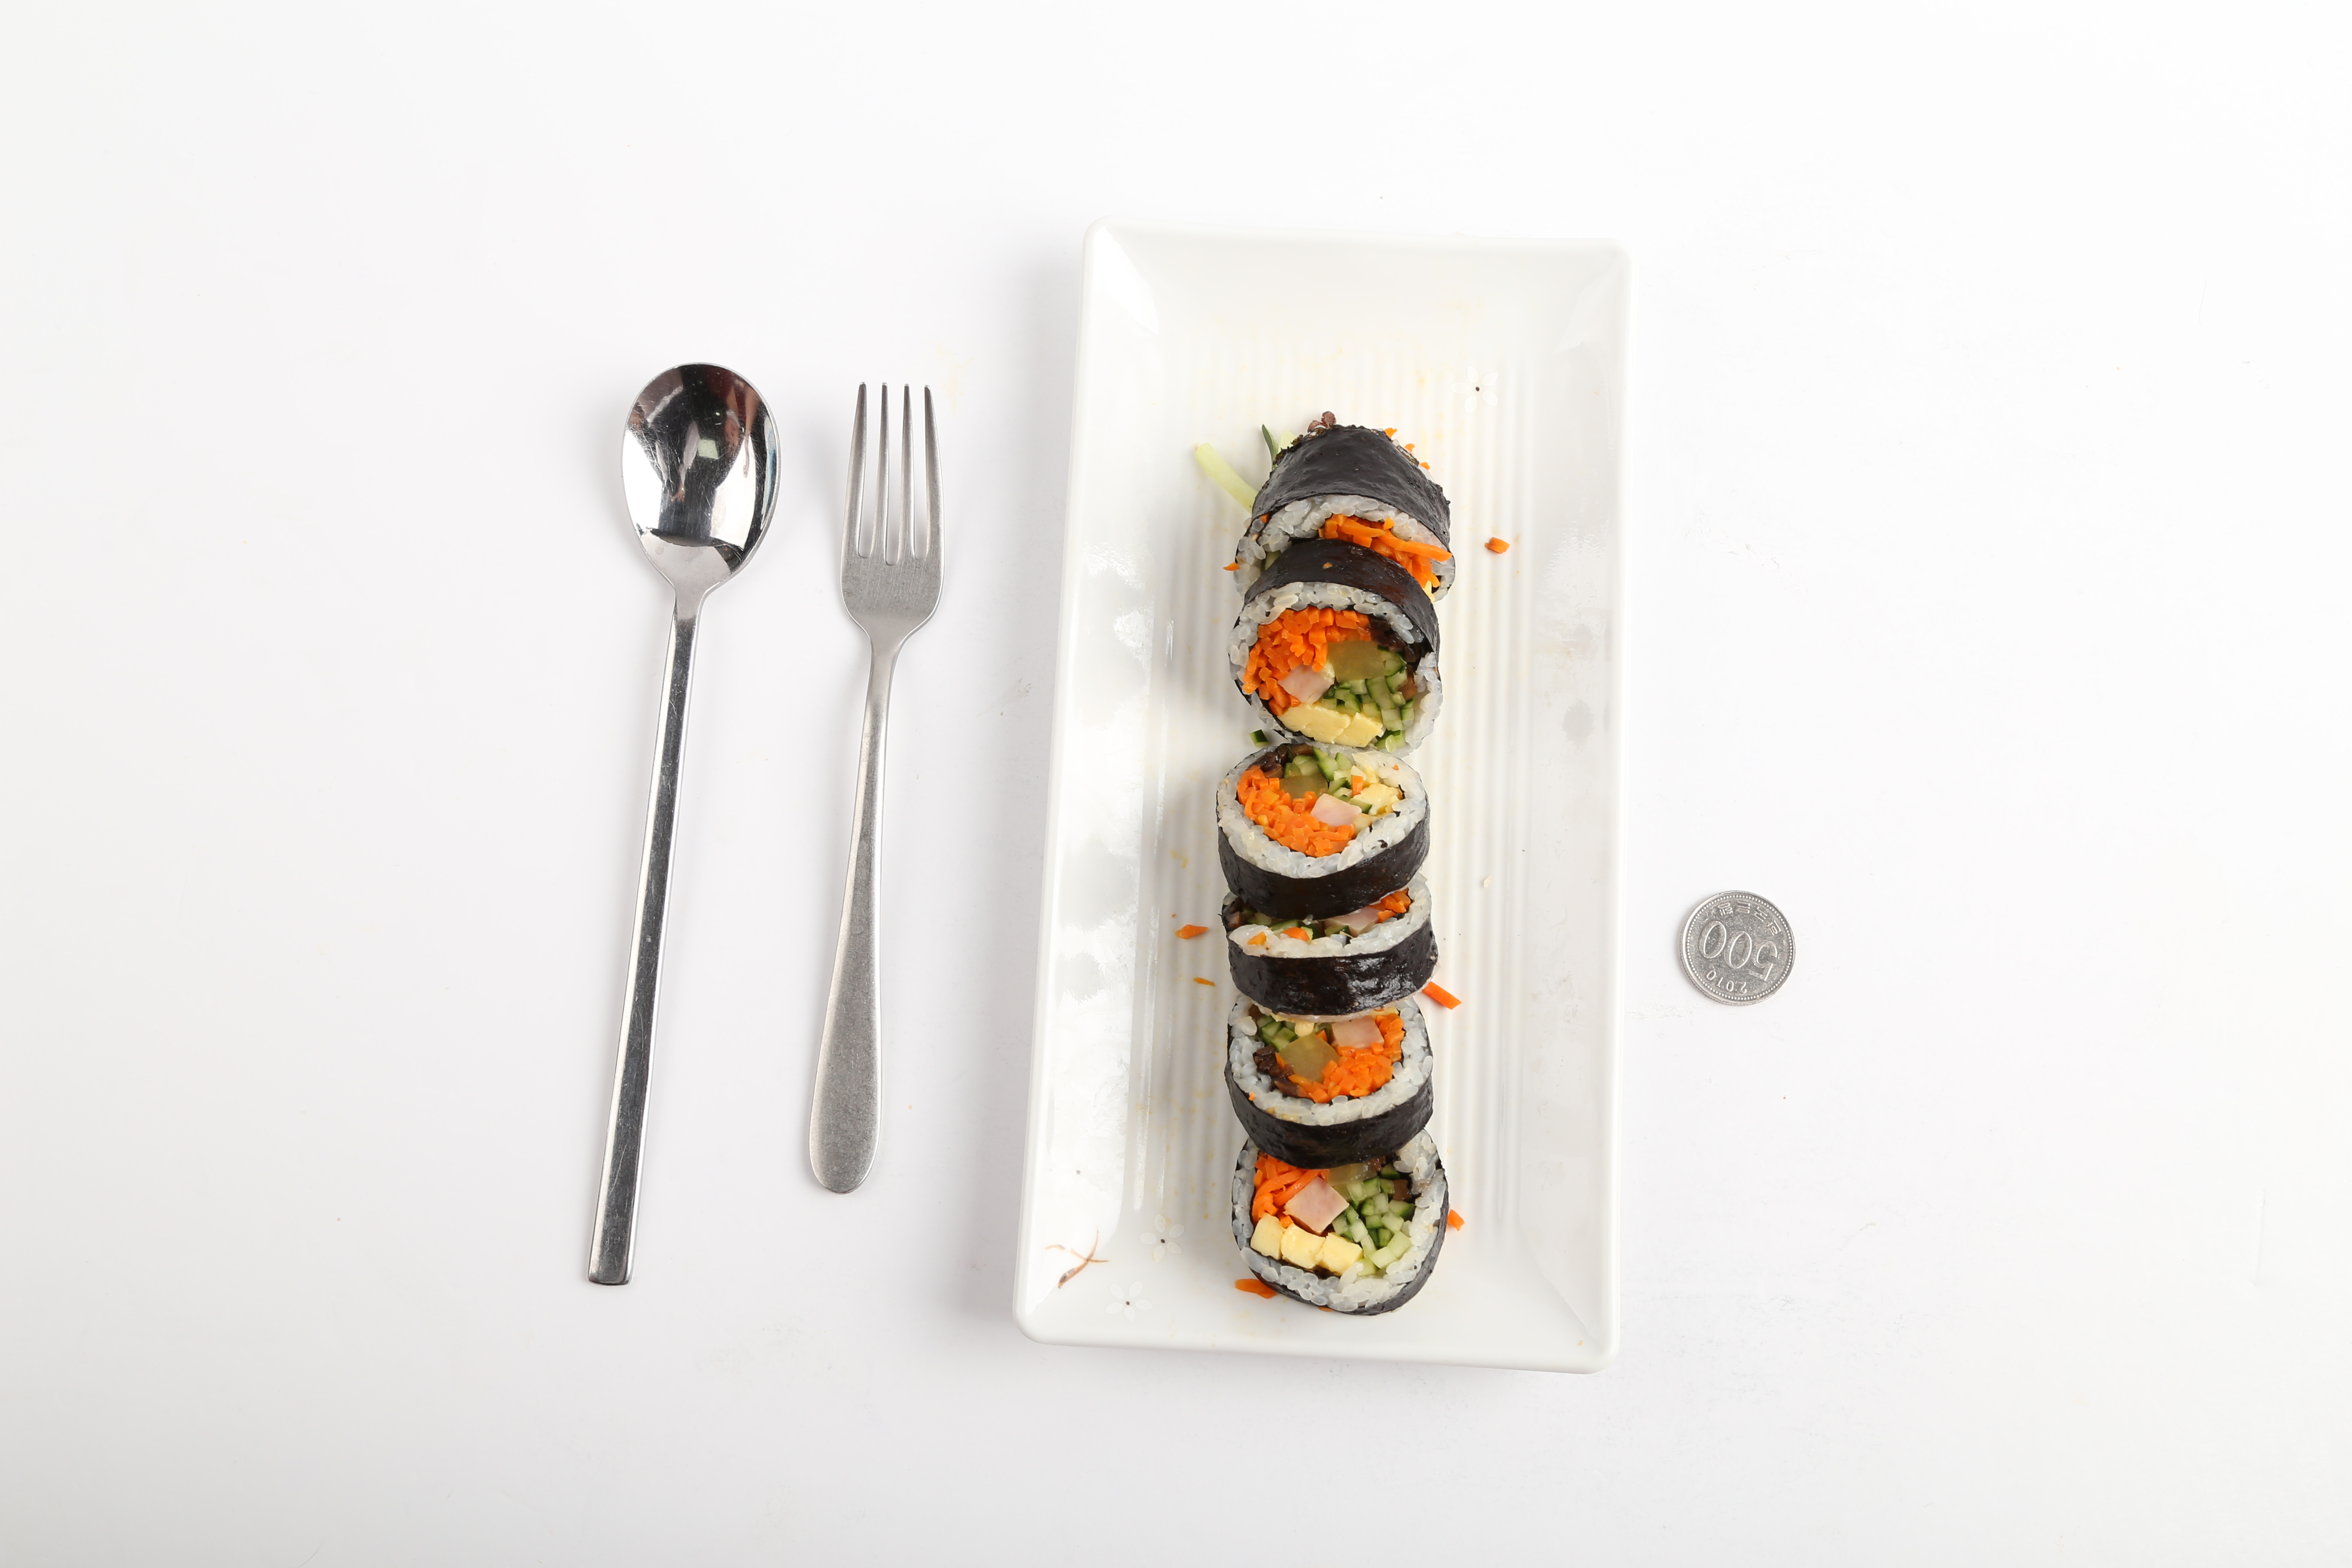dish: (1008, 217, 1657, 1379)
ref_coin: (1676, 887, 1801, 1013)
ref_fork: (835, 374, 948, 670)
ref_spoon: (614, 346, 787, 646)
김밥: (1209, 423, 1454, 1318)
